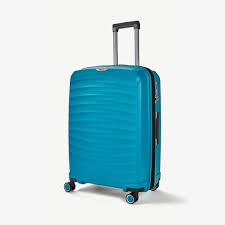suitcase: (63, 20, 162, 202)
